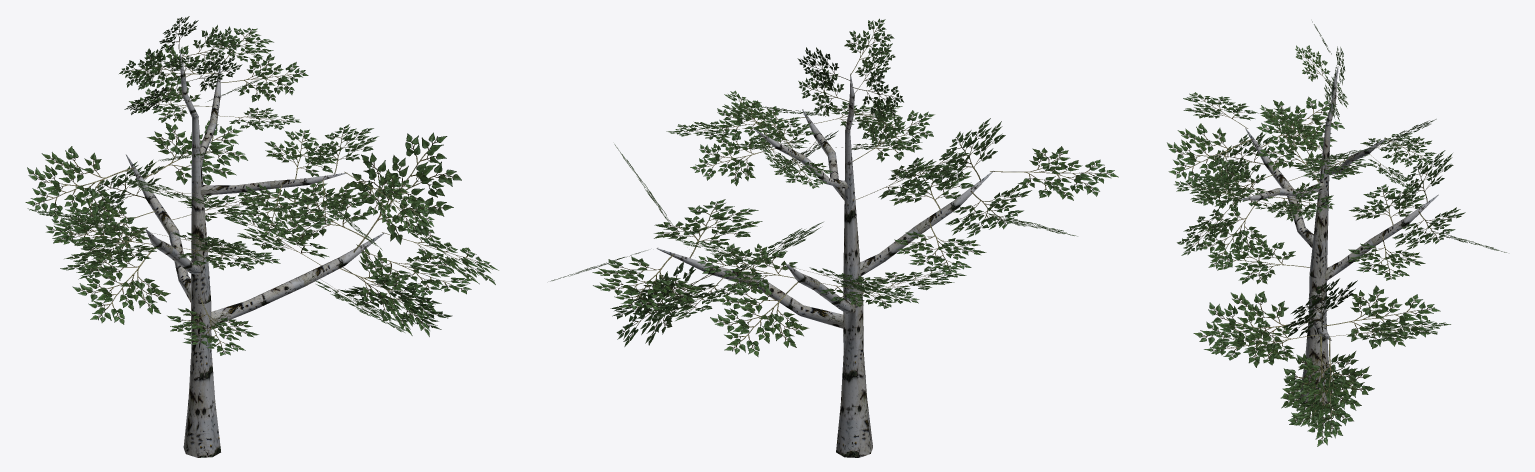
File: tree_4.obj
The picture shows the model from 3 angles, left to right: view 1: azimuth 30°, elevation 25°; view 2: azimuth 150°, elevation 25°; view 3: azimuth 270°, elevation 25°; orthographic projection. The views are drawn at different scales.
Visible parts, largest first — view 1: leaves, trunk22, branches; view 2: leaves, trunk22, branches; view 3: leaves, branches, trunk22.
Boxes of the visible parts, <box> form: leaves: <box>25,16,498,355</box>; trunk22: <box>183,116,220,457</box>; branches: <box>126,50,383,327</box>; leaves: <box>550,18,1118,356</box>; trunk22: <box>836,131,872,457</box>; branches: <box>656,73,992,328</box>; leaves: <box>1167,21,1506,446</box>; branches: <box>1239,67,1438,340</box>; trunk22: <box>1299,124,1332,405</box>.
Bounding box in the file's own units: 611 × 501 × 438.
Materials: 2 (2 with a texture image).
